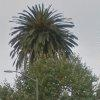Palm tree: (9, 3, 77, 90)
